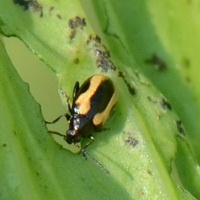insect: (64, 74, 118, 143)
